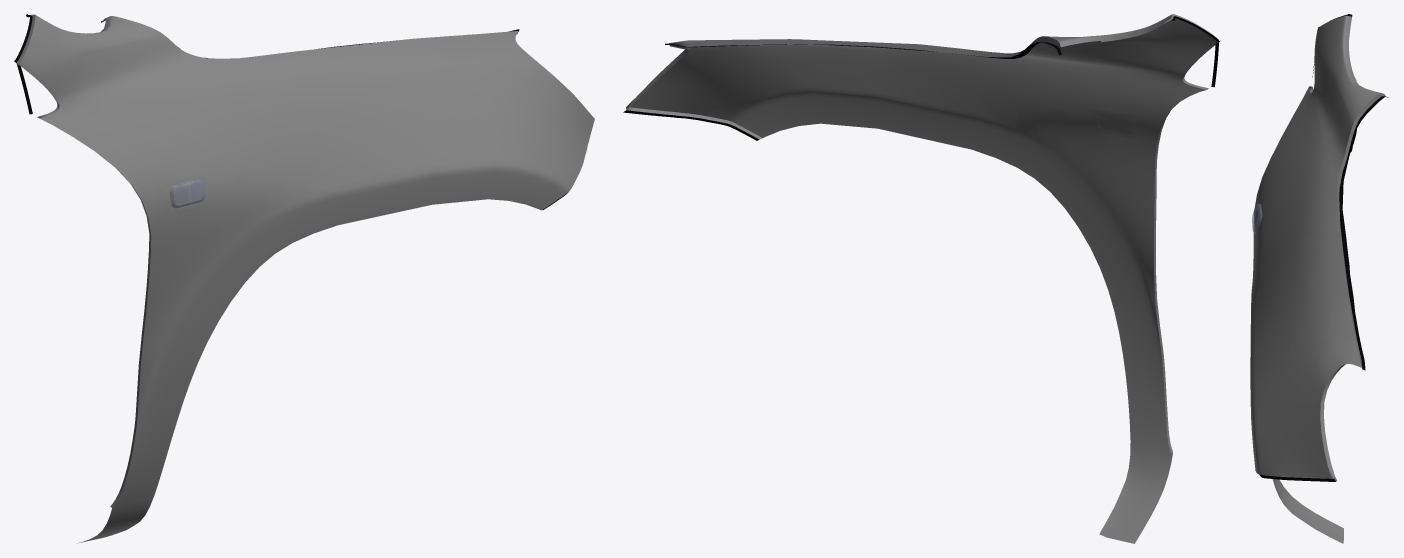
3 renders of one model, left to right at view 1: azimuth 30°, elevation 25°; view 2: azimuth 150°, elevation 25°; view 3: azimuth 270°, elevation 25°, orthographic. The views are drawn at different scales.
Visible parts, largest first — view 1: Y712_141B_R_Y712_141B_R_3_DaS, Y712_141B_R_Y712_141B_R_3_DaS_E, Y712_141B_R_Y712_141B_R_2_N, Y712_141B_R_1_DTaSI_Y712_141B_R; view 2: Y712_141B_R_Y712_141B_R_3_DaS, Y712_141B_R_Y712_141B_R_3_DaS_E, Y712_141B_R_Y712_141B_R_5_D; view 3: Y712_141B_R_Y712_141B_R_3_DaS, Y712_141B_R_Y712_141B_R_3_DaS_E, Y712_141B_R_Y712_141B_R_5_D, Y712_141B_R_1_DTaSI_Y712_141B_R.
Part boxes in pixels (box(x1,y1,x2,y2)): Y712_141B_R_Y712_141B_R_3_DaS: box(18, 15, 594, 543); Y712_141B_R_Y712_141B_R_3_DaS_E: box(17, 14, 517, 507); Y712_141B_R_Y712_141B_R_2_N: box(169, 179, 205, 208); Y712_141B_R_1_DTaSI_Y712_141B_R: box(170, 179, 205, 207); Y712_141B_R_Y712_141B_R_3_DaS: box(630, 14, 1217, 543); Y712_141B_R_Y712_141B_R_3_DaS_E: box(623, 14, 1219, 453); Y712_141B_R_Y712_141B_R_5_D: box(623, 16, 1220, 140); Y712_141B_R_Y712_141B_R_3_DaS: box(1250, 15, 1382, 543); Y712_141B_R_Y712_141B_R_3_DaS_E: box(1261, 16, 1385, 481); Y712_141B_R_Y712_141B_R_5_D: box(1259, 14, 1388, 481); Y712_141B_R_1_DTaSI_Y712_141B_R: box(1252, 203, 1262, 233).
Bounding box in the file's own units: 129 × 113 × 28.84.
